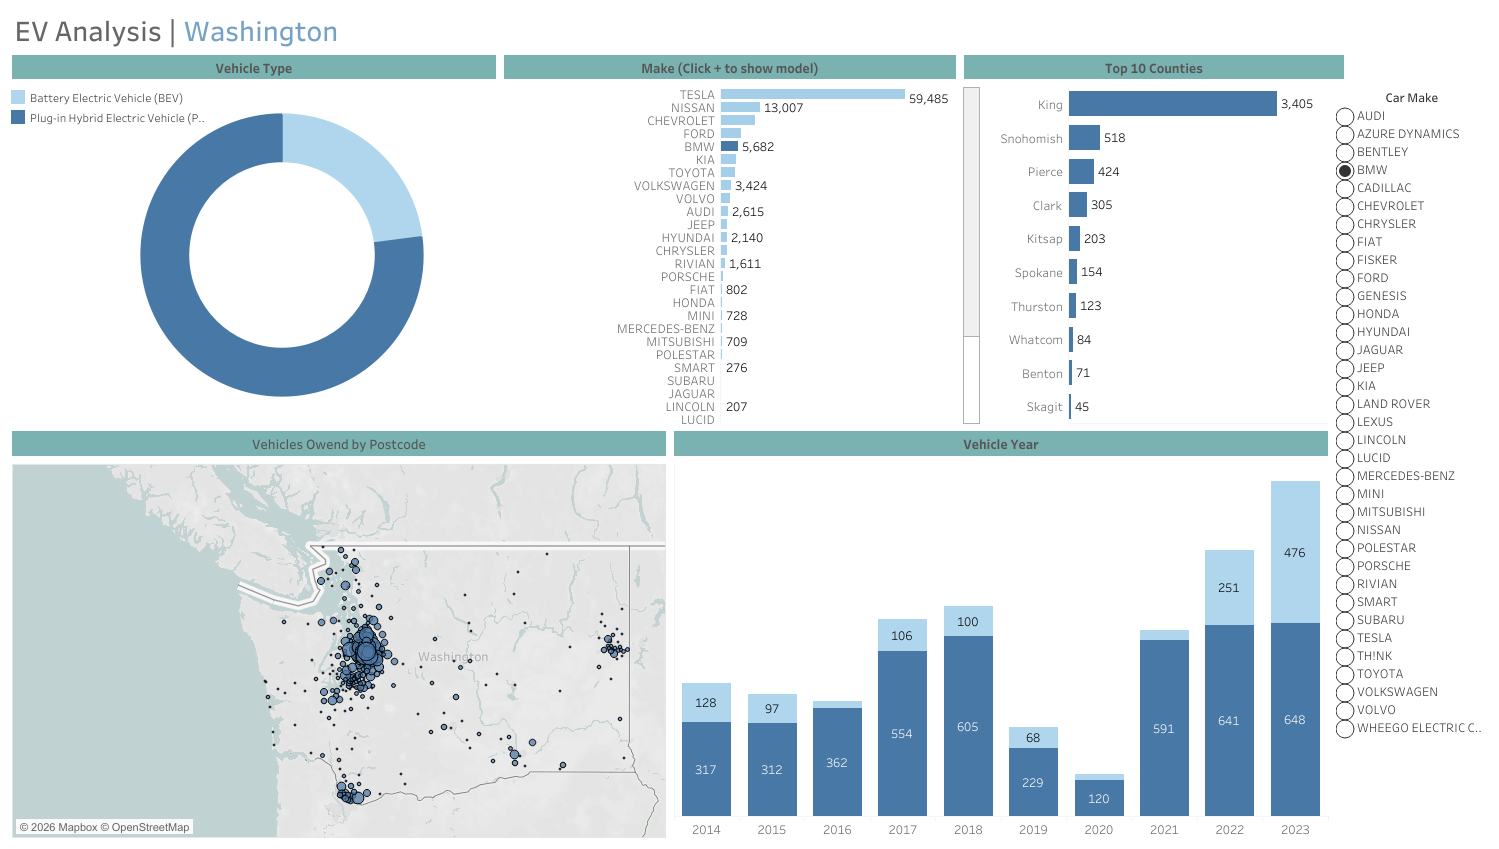

The page's visual inventory and layout, read from the dashboard file:
{"tool":"tableau","page":{"name":"Dashboard 1","canvas":[1500,850],"ordinal":0},"visuals":[{"type":"text","box":[8,8,1484,42.6]},{"type":"text","box":[8,50.6,492.2,32.2]},{"type":"text","box":[500.2,50.6,459.9,32.2]},{"type":"text","box":[960.1,50.6,388.1,32.2]},{"type":"worksheet","title":"Vehicle Type Donout","mark":"Pie","rows":["Calculation_0077794113925123","Calculation_0077794113925123"],"box":[8,82.8,548,343.7]},{"type":"worksheet","title":"Make & Model","mark":"Automatic","rows":["Make"],"cols":["DOL Vehicle ID"],"box":[556,82.8,428,343.7]},{"type":"worksheet","title":"Top 10 Countries","mark":"Automatic","rows":["County"],"cols":["DOL Vehicle ID"],"box":[984,82.8,348,343.7]},{"type":"parameter","param":"[Parameters].[Parameter 1]","box":[1332,82.8,160,759.2]},{"type":"legend","title":"Vehicle Type Donout","param":"[federated.17n184g0sw4inj15p5cn61sfxcqu].[none:Electric Vehicle Type:nk]","box":[8.1,87.3,201.4,37.9]},{"type":"text","box":[8,426.5,662,33]},{"type":"text","box":[670,426.5,662,33]},{"type":"worksheet","title":"Map","mark":"Automatic","box":[8,459.6,662,382.4]},{"type":"worksheet","title":"Year and Type","mark":"Bar","rows":["DOL Vehicle ID"],"cols":["Model Year"],"box":[670,459.6,662,382.4]}]}

Visuals, with their boxes in screenshot pixels (x1, y1, x2, y2), scaled from the page's 1500x850 canvas onto the 1499x849 screenshot:
text: crop(8, 8, 1491, 51)
text: crop(8, 51, 500, 83)
text: crop(500, 51, 959, 83)
text: crop(959, 51, 1347, 83)
"Vehicle Type Donout" worksheet (Pie marks): crop(8, 83, 556, 426)
"Make & Model" worksheet: crop(556, 83, 983, 426)
"Top 10 Countries" worksheet: crop(983, 83, 1331, 426)
parameter: crop(1331, 83, 1491, 841)
"Vehicle Type Donout" legend: crop(8, 87, 209, 125)
text: crop(8, 426, 670, 459)
text: crop(670, 426, 1331, 459)
"Map" worksheet: crop(8, 459, 670, 841)
"Year and Type" worksheet (Bar marks): crop(670, 459, 1331, 841)
